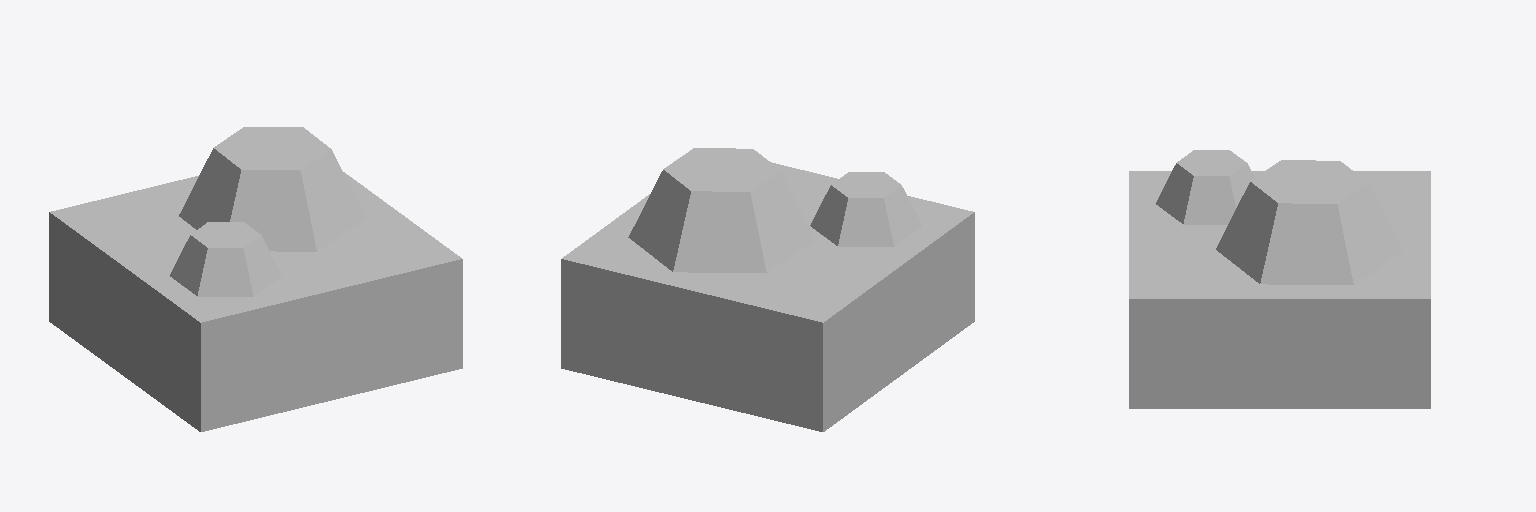
Rendered from tile_001.obj.
3 renders of one model, left to right at view 1: azimuth 30°, elevation 25°; view 2: azimuth 150°, elevation 25°; view 3: azimuth 270°, elevation 25°, orthographic.
Visible parts, largest first — view 1: tile_001, Group; view 2: tile_001, Group; view 3: tile_001, Group.
Part boxes in pixels (bbox=[...]): tile_001: bbox=[49, 172, 462, 431]; Group: bbox=[170, 127, 365, 296]; tile_001: bbox=[561, 162, 974, 431]; Group: bbox=[628, 148, 921, 272]; tile_001: bbox=[1129, 171, 1430, 408]; Group: bbox=[1156, 150, 1402, 284].
Size of the model in its own units: 1 by 0.65 by 1.